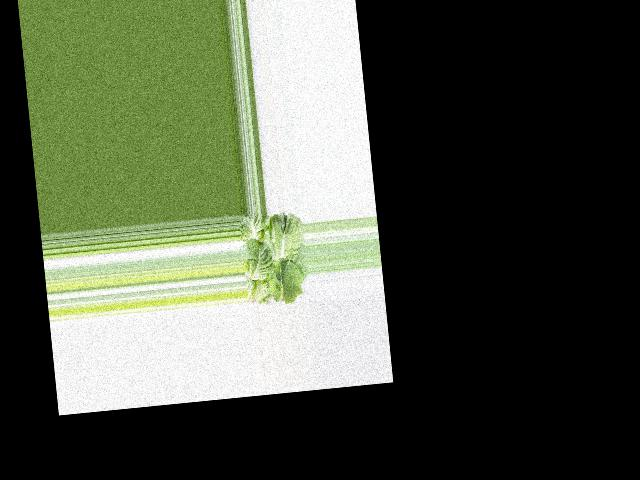lettuce: (238, 210, 308, 305)
